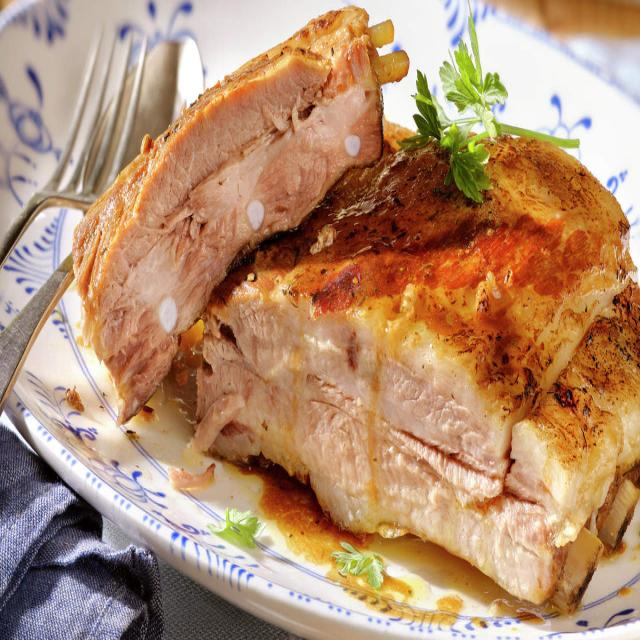carne de cerdo: (66, 4, 410, 426)
